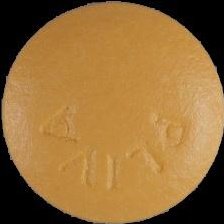67296-0106: (0, 0, 224, 224)
